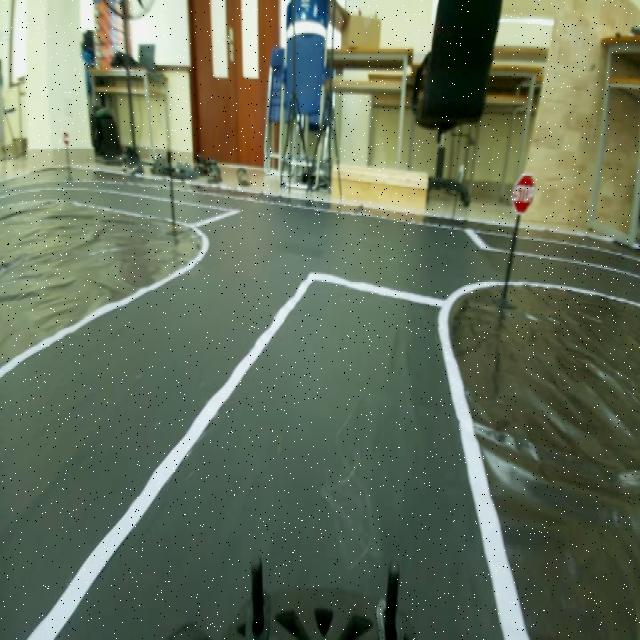stop: (510, 168, 541, 222)
